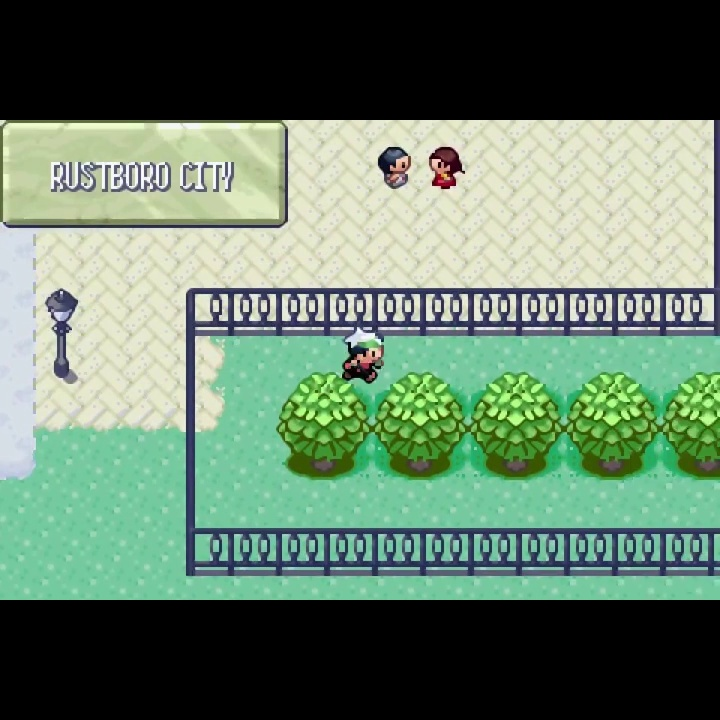npc: (338, 323, 386, 386), (426, 144, 469, 194), (372, 144, 414, 192)
wall: (276, 369, 373, 481), (564, 372, 662, 481), (374, 372, 469, 482), (469, 371, 563, 482), (661, 372, 720, 481)
